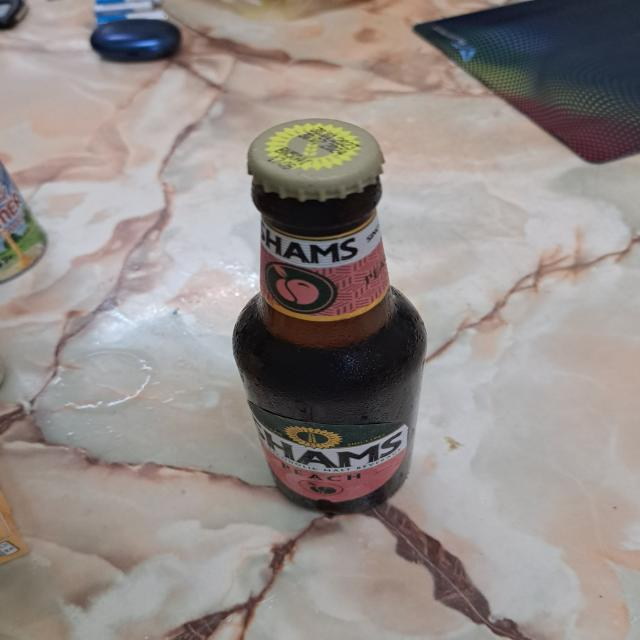glass bottle: (227, 118, 427, 516)
